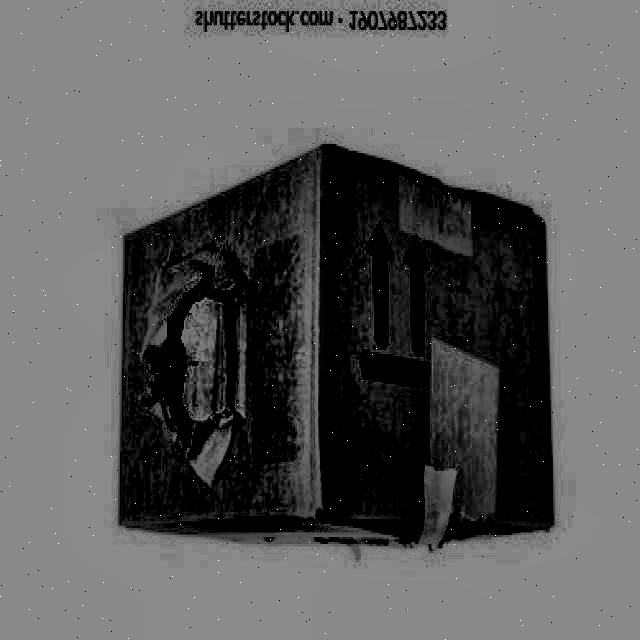box: (75, 137, 592, 568)
hole: (142, 250, 255, 453)
